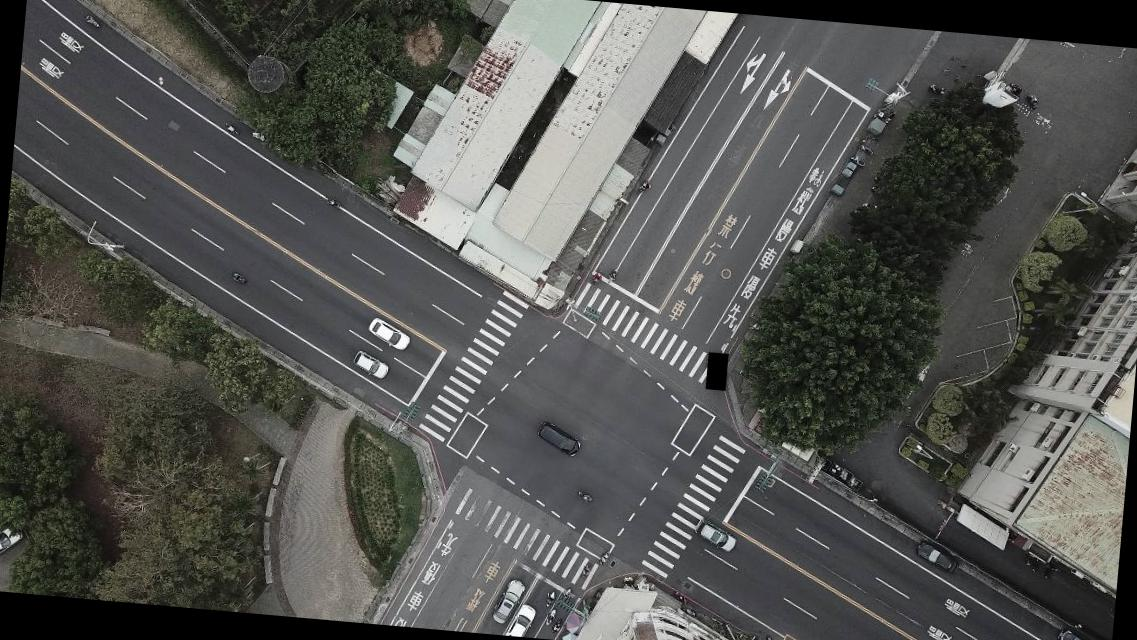vehicle: (533, 419, 583, 458), (912, 539, 961, 575), (491, 576, 526, 626), (366, 316, 412, 352), (693, 518, 739, 552), (501, 602, 537, 638), (350, 348, 390, 379), (0, 522, 24, 567), (1054, 626, 1104, 639)
